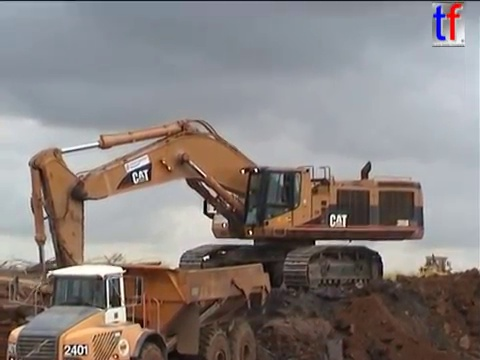excavator: (18, 115, 429, 336)
motor grader: (416, 252, 454, 283)
truck: (4, 259, 275, 360)
